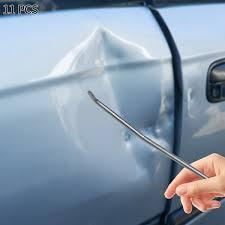dent: (42, 17, 176, 189)
